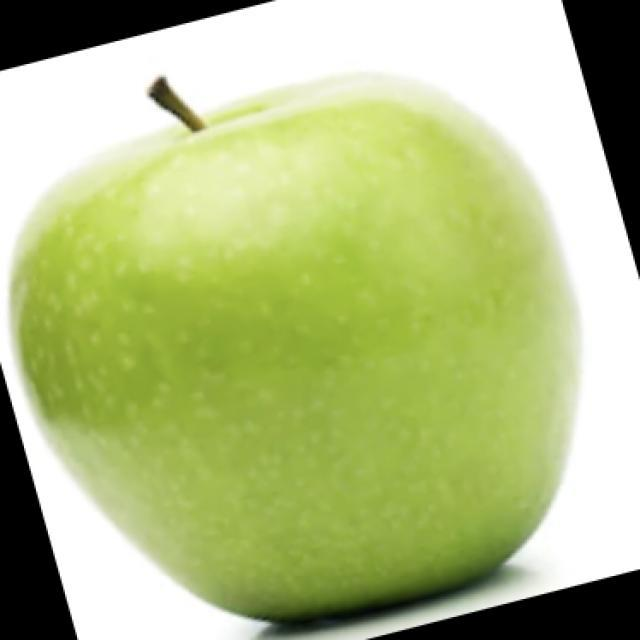Fresh Apple: (23, 86, 588, 640)
